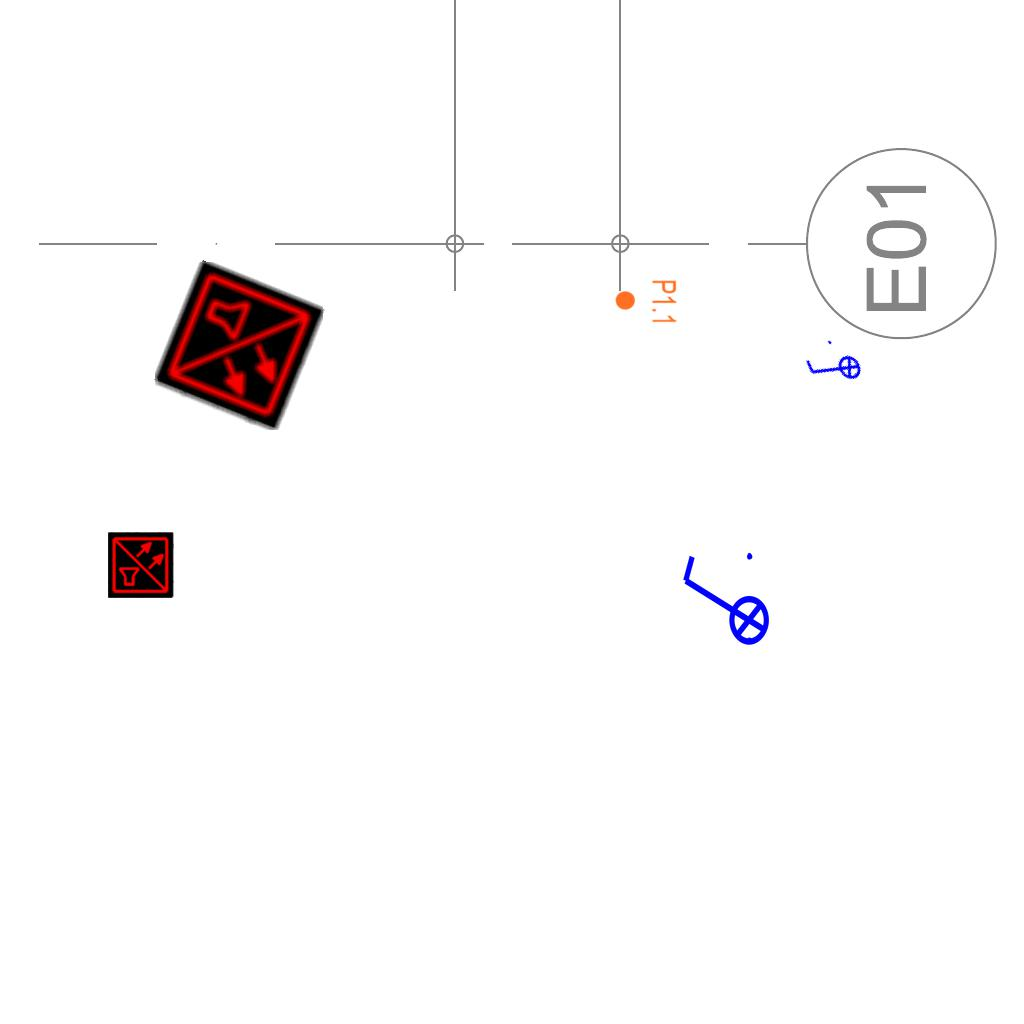Ausschalter_beleuchtet: (675, 547, 771, 659), (797, 332, 871, 406)
Downlight_LED_Einbauleuchten_Flur: (614, 279, 678, 325)
OKW_Multisensormelder_(Kombination_optischer_Rauch-Kahlenmonoxid_Waerme-Melder): (153, 260, 325, 432), (108, 532, 174, 598)
